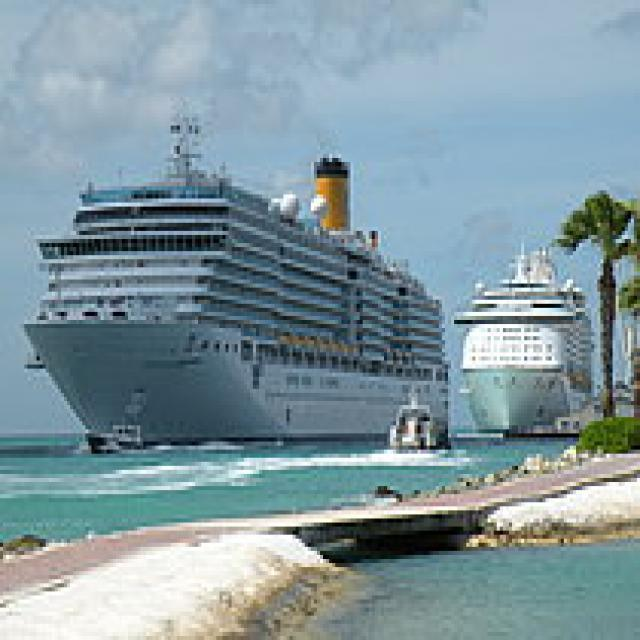Ship: (13, 94, 461, 459), (452, 244, 614, 459)
